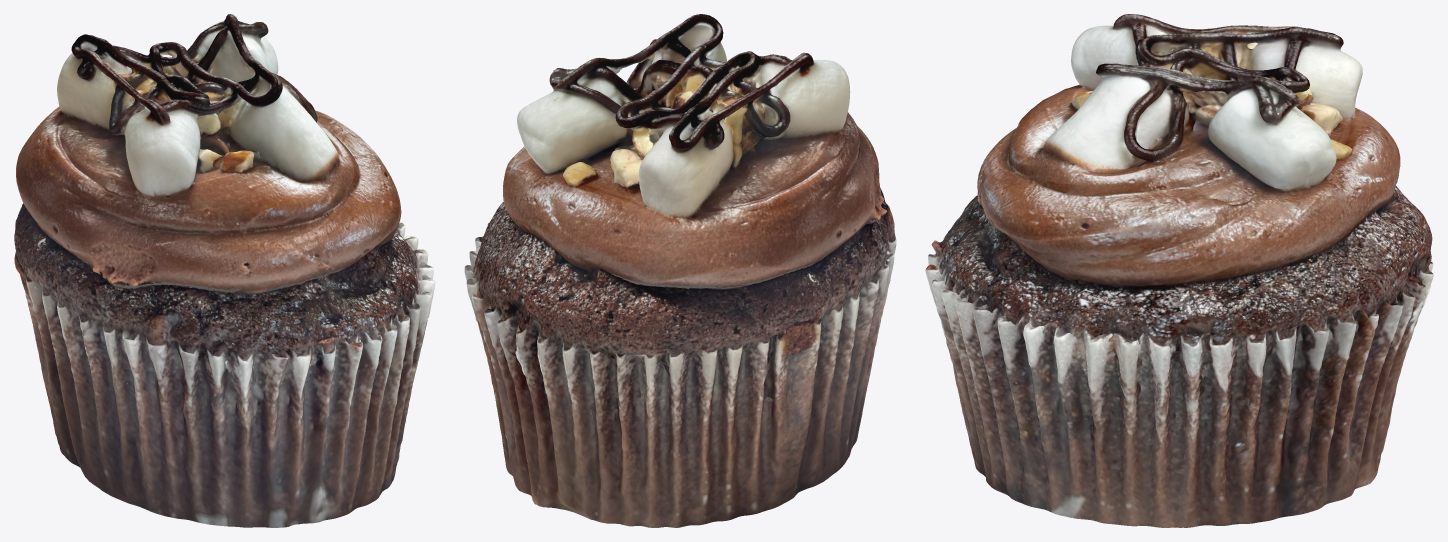
File: cupcake.glb
The picture shows the model from 3 angles, left to right: view 1: azimuth 30°, elevation 25°; view 2: azimuth 150°, elevation 25°; view 3: azimuth 270°, elevation 25°; orthographic projection. The views are drawn at different scales.
Parts seen in each view (by area): view 1: Object_3, Object_5, Object_6; view 2: Object_3, Object_5, Object_6; view 3: Object_3, Object_5, Object_6.
Part boxes in pixels (x1,y1,x2,y2): Object_3: (14,35,433,527); Object_5: (16,14,435,527); Object_6: (16,21,434,523); Object_3: (471,26,896,527); Object_5: (464,14,896,522); Object_6: (465,14,894,513); Object_3: (925,15,1433,527); Object_5: (929,14,1433,526); Object_6: (926,32,1429,498).
Size of the model in its own units: 0.0947 by 0.1044 by 0.1187.
3 materials, 3 textured.
